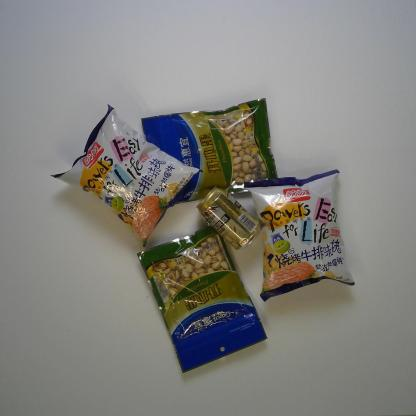Alcohol: (195, 184, 263, 252)
Dried Fruit: (135, 226, 268, 376), (142, 95, 280, 209)
Puffed Food: (49, 103, 202, 250), (243, 169, 356, 304)
